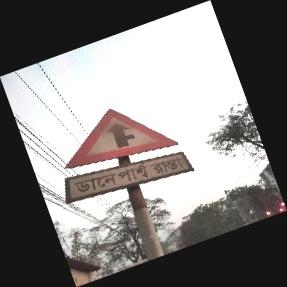Side-road-right: (64, 107, 190, 202)
